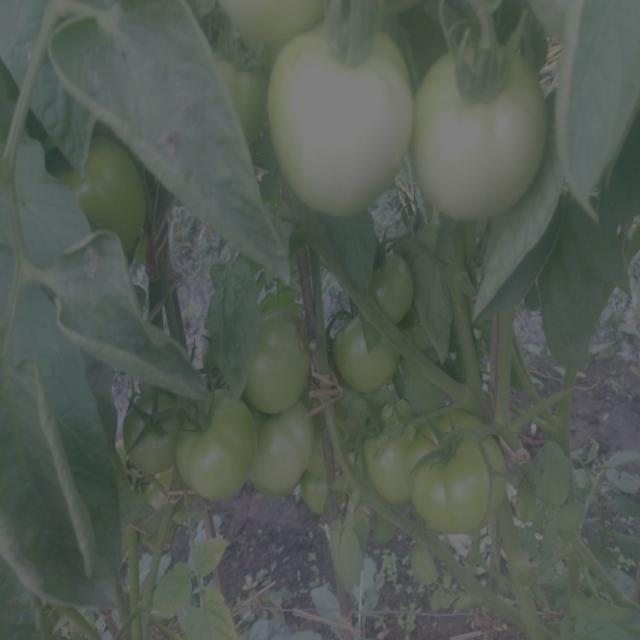tomato: (415, 24, 553, 225), (267, 26, 408, 222), (55, 139, 147, 260), (416, 414, 499, 539), (236, 306, 311, 406), (181, 396, 250, 502), (332, 309, 410, 394), (206, 50, 265, 146), (125, 383, 179, 479), (362, 403, 409, 509), (361, 245, 423, 325), (257, 413, 306, 511), (228, 1, 330, 43), (314, 449, 337, 515)
